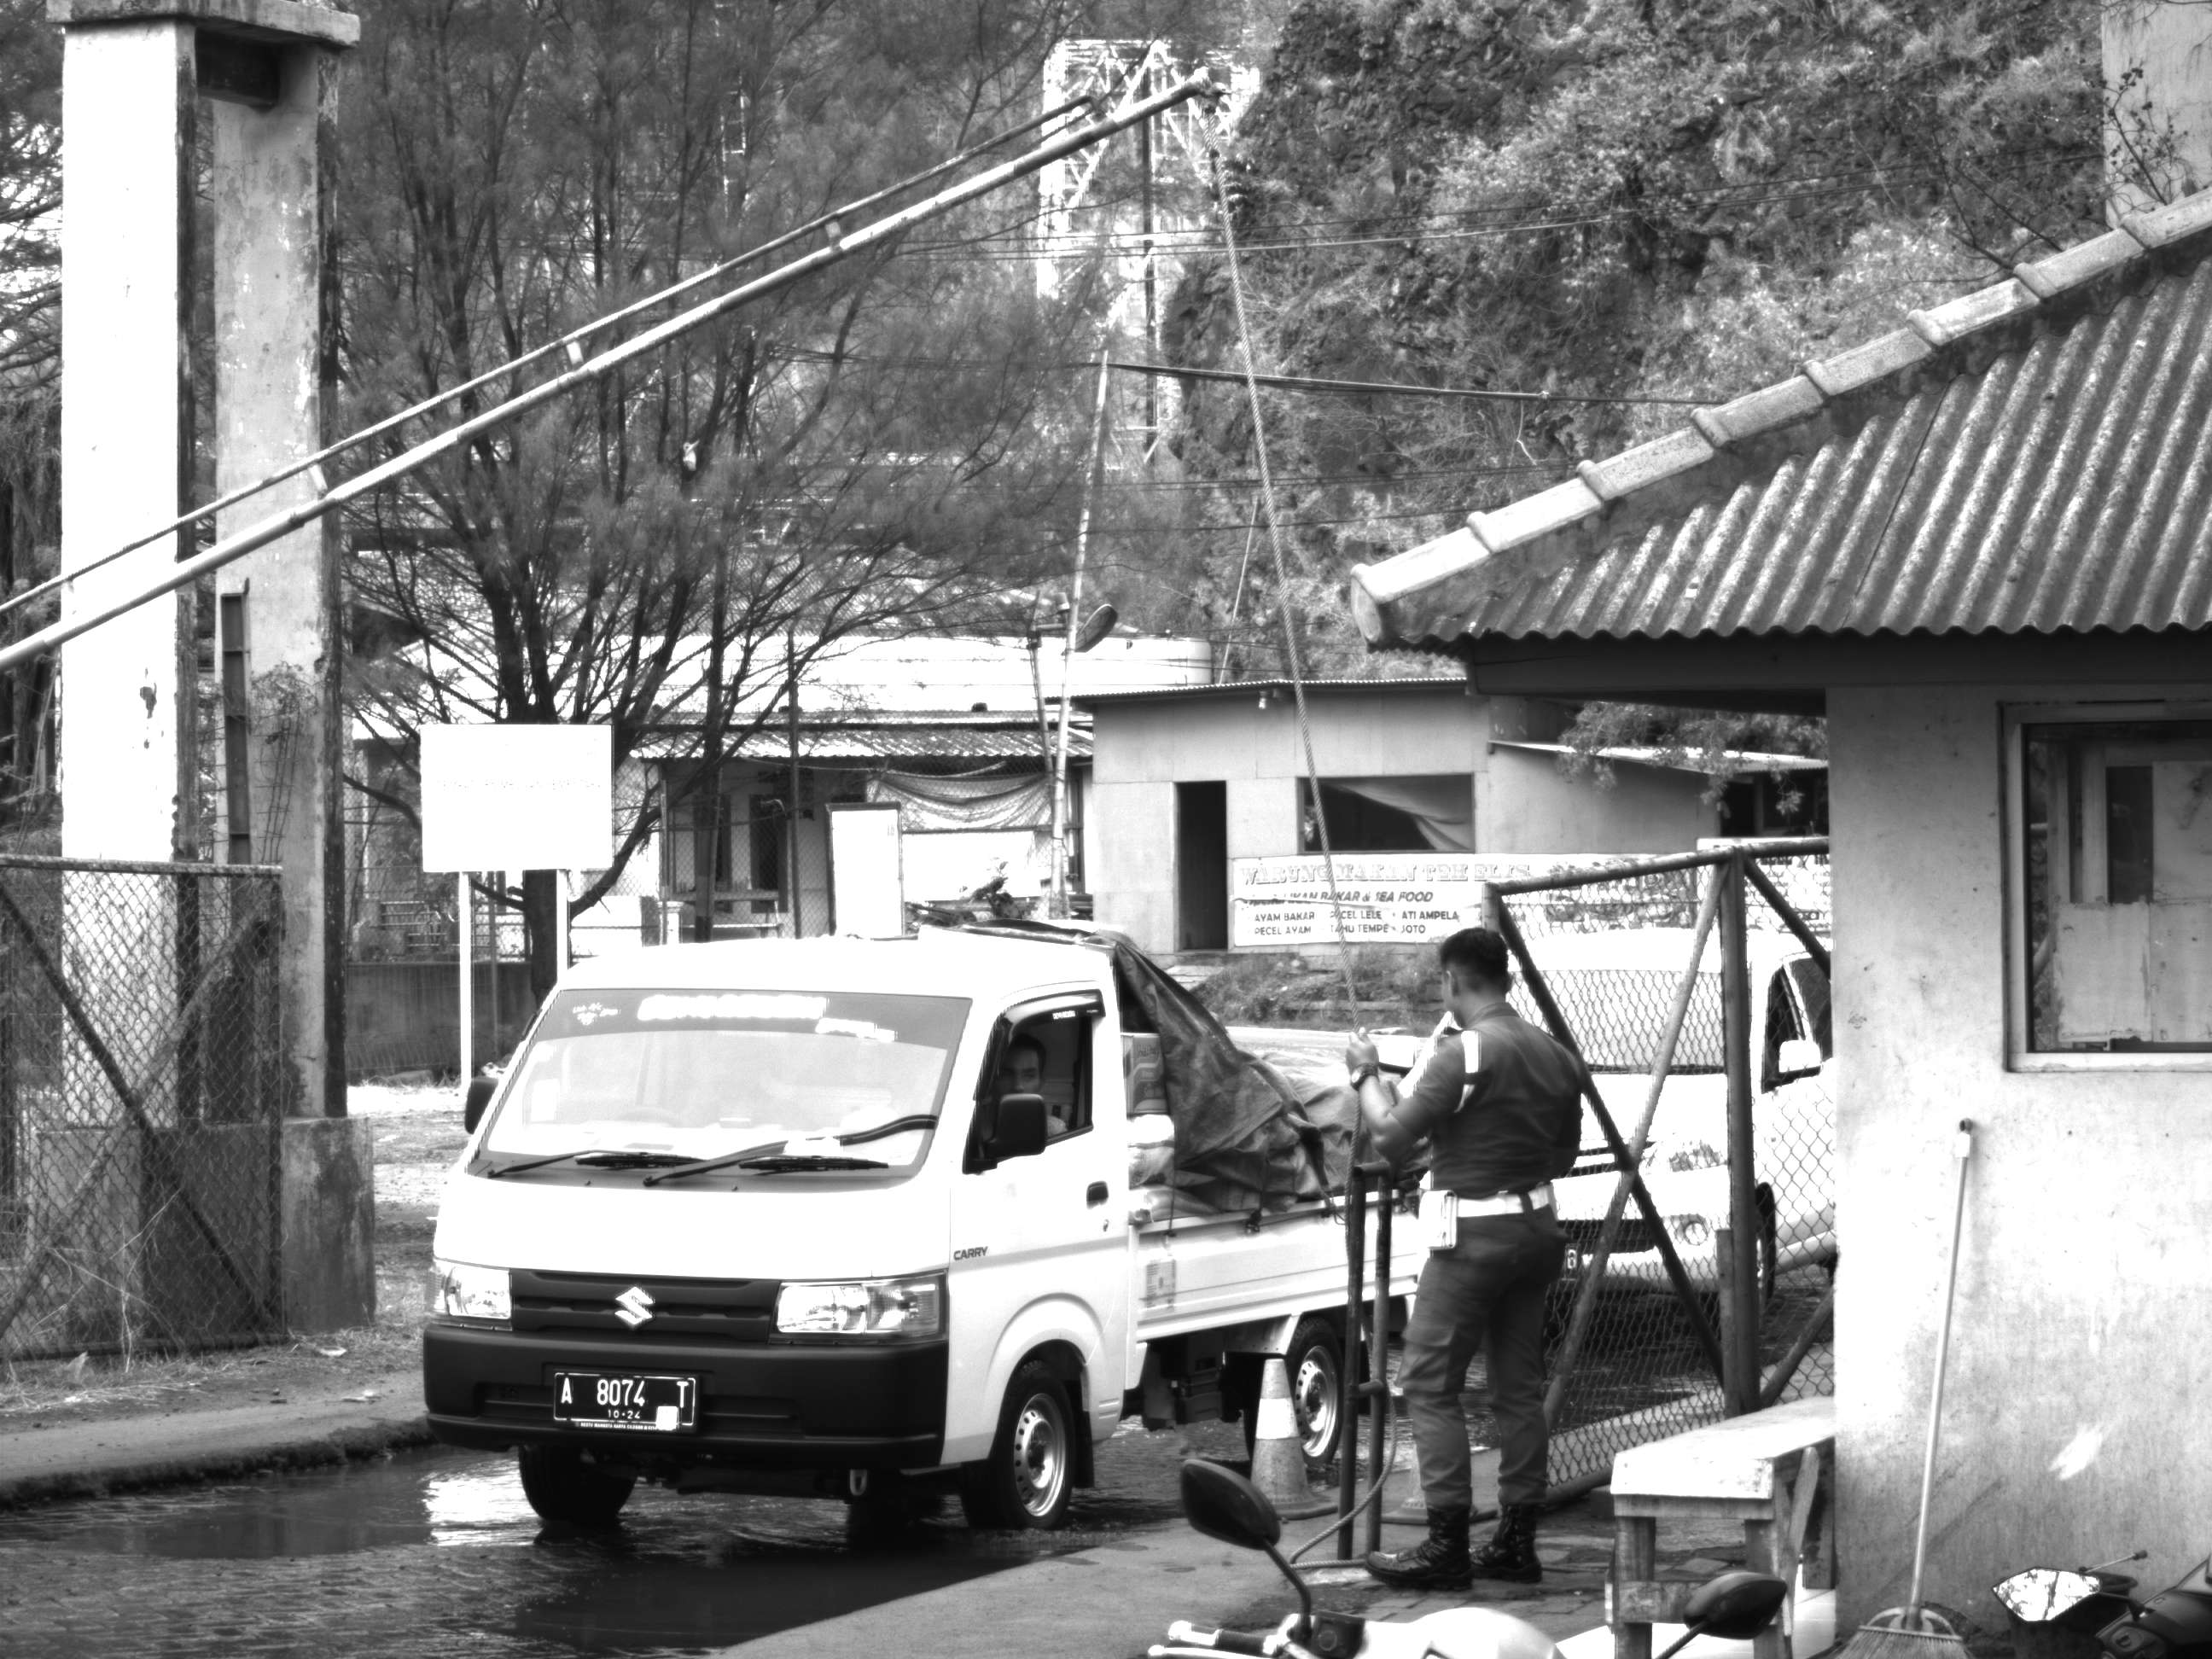day_small_truck_front: (411, 929, 1217, 1534)
plate: (546, 1365, 699, 1441)
